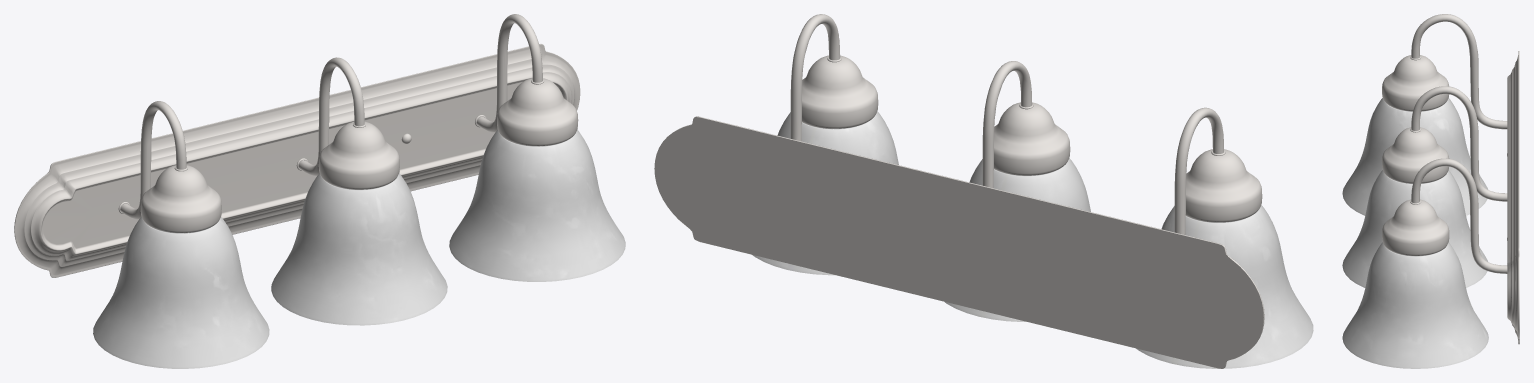
File: abo-B07QBB4WRM.glb
3 views of the same model, side by side, from view 1: azimuth 30°, elevation 25°; view 2: azimuth 150°, elevation 25°; view 3: azimuth 270°, elevation 25° (orthographic). The views are drawn at different scales.
Bounding box in the file's own units: 0.61 × 0.222 × 0.199.
Materials: 1 (1 with a texture image).
